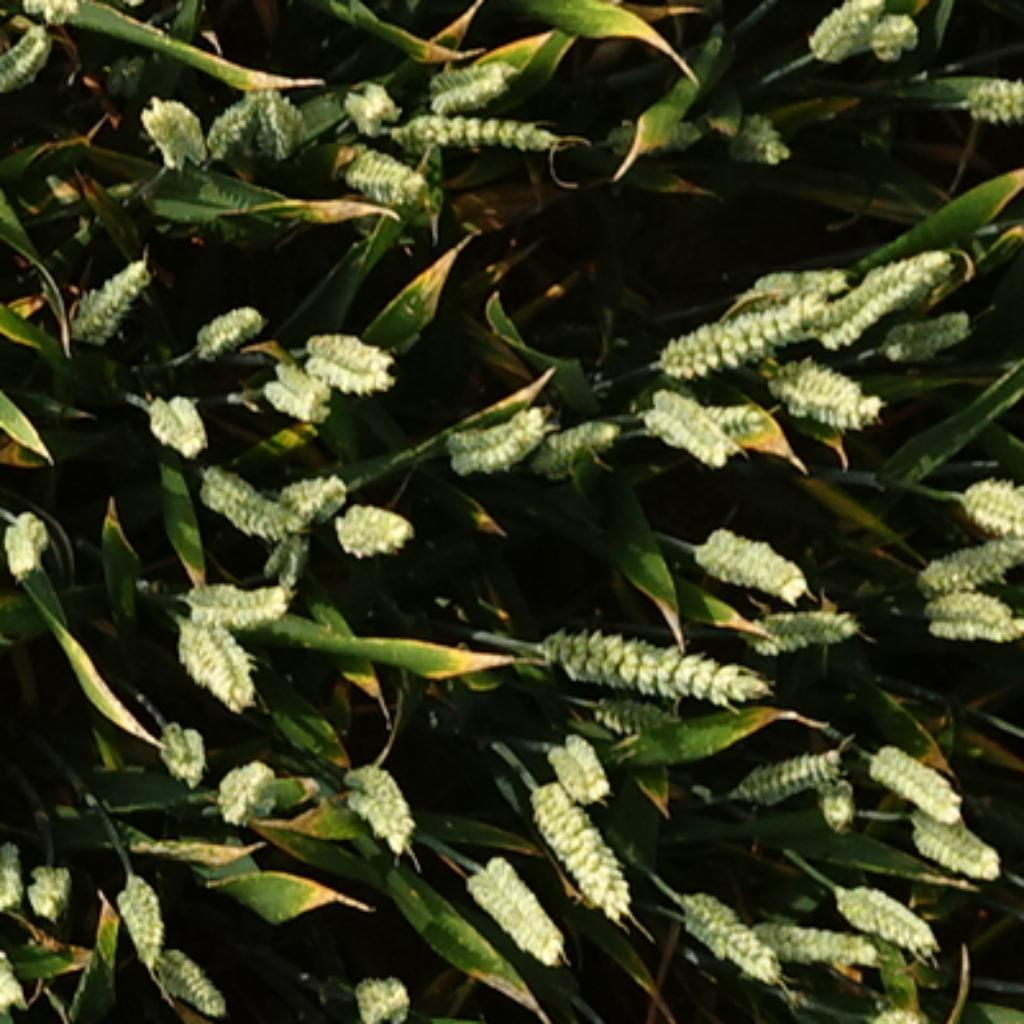0-0: (529, 616, 770, 701), (652, 289, 844, 381), (519, 770, 634, 913), (816, 238, 962, 350), (458, 842, 565, 957), (678, 885, 790, 985), (693, 527, 814, 609), (168, 606, 263, 709), (634, 386, 744, 471), (778, 355, 893, 435), (61, 248, 156, 343), (831, 878, 941, 958), (194, 450, 296, 535), (862, 732, 967, 814), (395, 108, 569, 157), (330, 755, 417, 852), (729, 737, 849, 806), (445, 404, 552, 476), (145, 931, 232, 1018), (906, 814, 1006, 888), (291, 320, 394, 391), (417, 43, 517, 107), (911, 537, 1024, 593), (581, 683, 693, 739), (179, 568, 289, 624), (921, 586, 1024, 645), (767, 912, 877, 966), (335, 135, 427, 199), (640, 396, 768, 442), (330, 486, 417, 552), (527, 412, 619, 473), (750, 601, 860, 652), (875, 304, 975, 360), (104, 865, 166, 954), (204, 71, 263, 163), (739, 266, 855, 312), (801, 0, 885, 61), (711, 97, 791, 161), (212, 755, 286, 824), (138, 92, 209, 163), (143, 394, 215, 463), (540, 727, 609, 798), (189, 304, 268, 363), (0, 15, 61, 89), (954, 471, 1024, 535), (148, 719, 212, 788), (271, 463, 345, 522), (0, 509, 56, 586), (261, 353, 327, 417), (345, 967, 417, 1024), (604, 115, 704, 156), (340, 76, 401, 135), (17, 852, 74, 913), (261, 87, 304, 163), (960, 76, 1024, 125), (263, 524, 307, 586), (870, 12, 919, 58), (819, 775, 855, 834), (0, 829, 28, 901), (115, 0, 174, 2)
